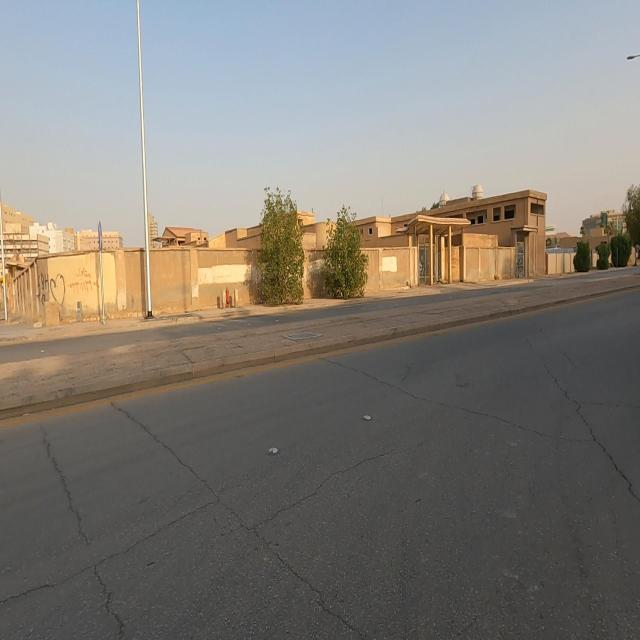Graffiti: (70, 269, 101, 296), (51, 274, 68, 307), (38, 273, 49, 305)
